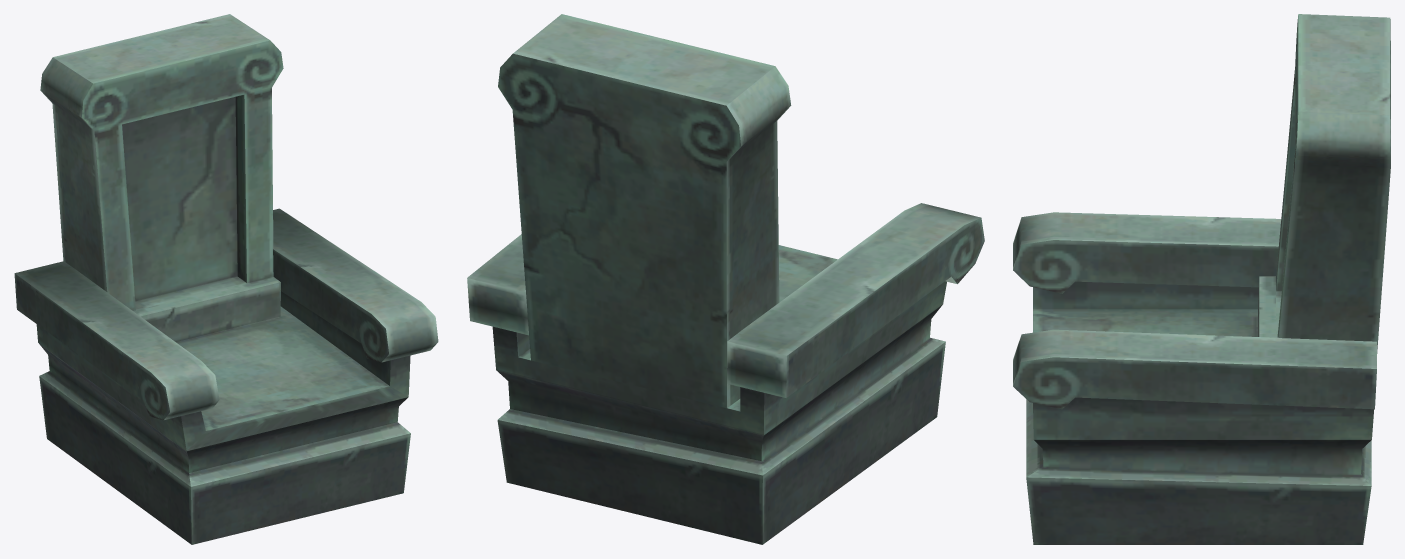
File: crypt_throne01.fbx
The picture shows the model from 3 angles, left to right: view 1: azimuth 30°, elevation 25°; view 2: azimuth 150°, elevation 25°; view 3: azimuth 270°, elevation 25°; orthographic projection. The views are drawn at different scales.
Visible parts, largest first — view 1: bench_chandelier; view 2: bench_chandelier; view 3: bench_chandelier.
Boxes of the visible parts, <box> form: bench_chandelier: <box>14,14,438,544</box>; bench_chandelier: <box>467,14,984,544</box>; bench_chandelier: <box>1013,14,1390,544</box>.
Size of the model in its own units: 1.28 by 1.68 by 1.36.
